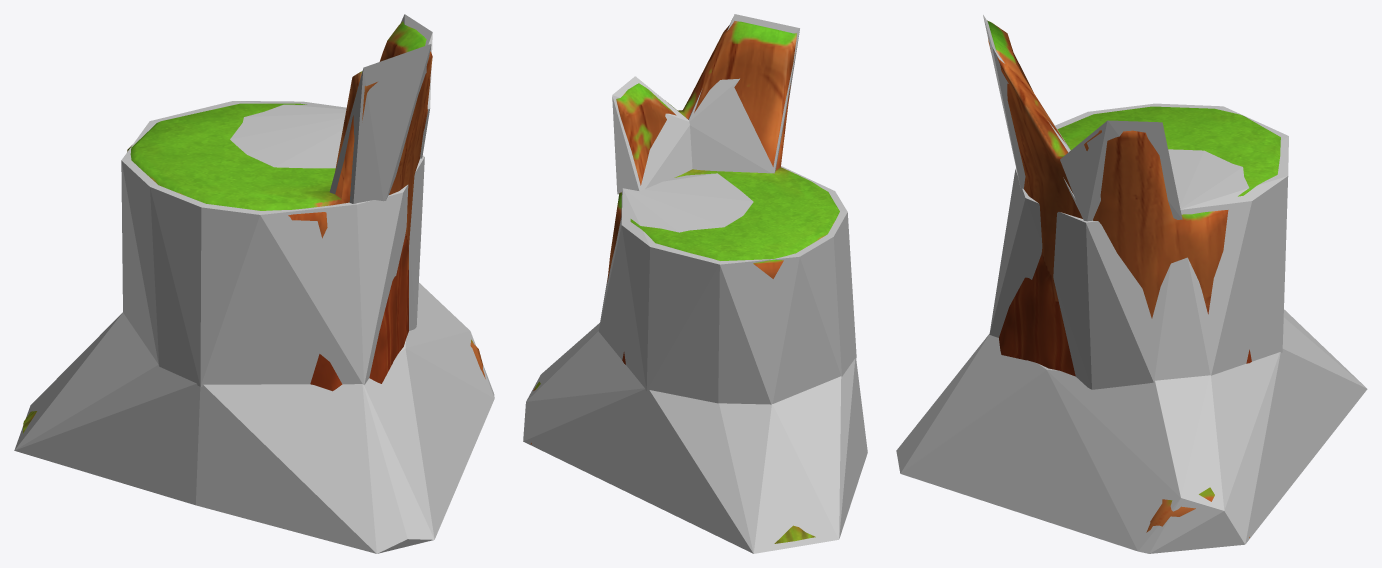
Rendered from SM_Stump01.fbx.
3 views of the same model, side by side, from view 1: azimuth 30°, elevation 25°; view 2: azimuth 150°, elevation 25°; view 3: azimuth 270°, elevation 25° (orthographic). The views are drawn at different scales.
Parts seen in each view (by area): view 1: SM_Stump01_ConvexHulls, SM_Stump01; view 2: SM_Stump01_ConvexHulls, SM_Stump01; view 3: SM_Stump01_ConvexHulls, SM_Stump01.
Part boxes in pixels (box(x1,y1,x2,y2)): SM_Stump01_ConvexHulls: box(14, 14, 494, 553); SM_Stump01: box(23, 21, 485, 433); SM_Stump01_ConvexHulls: box(523, 14, 867, 553); SM_Stump01: box(531, 21, 839, 543); SM_Stump01_ConvexHulls: box(896, 15, 1367, 553); SM_Stump01: box(987, 20, 1280, 537).
Bounding box in the file's own units: 79.57 × 79.43 × 83.32.
2 materials, 1 textured.
